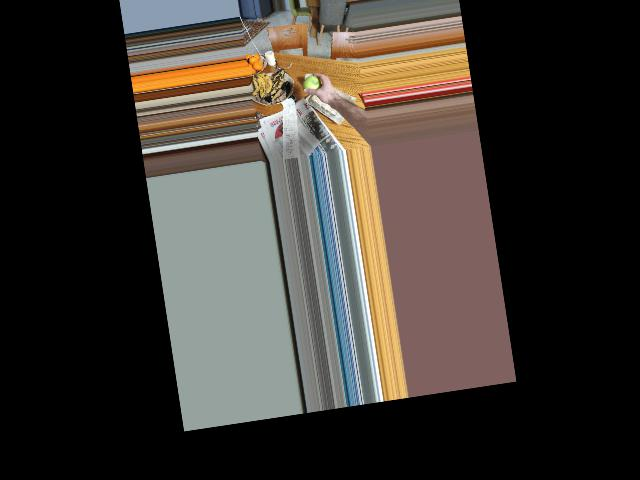apple: (300, 71, 326, 98)
